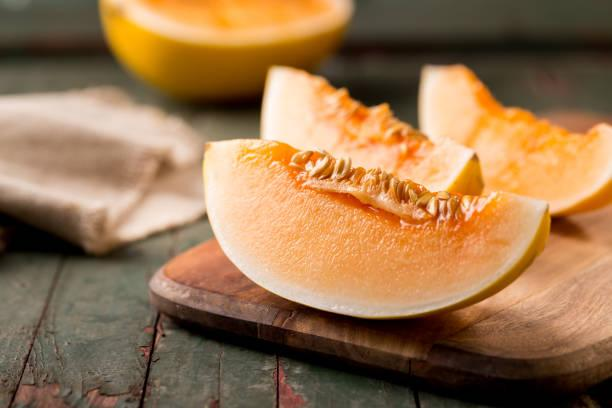Melon Ripe: (204, 138, 551, 321)
